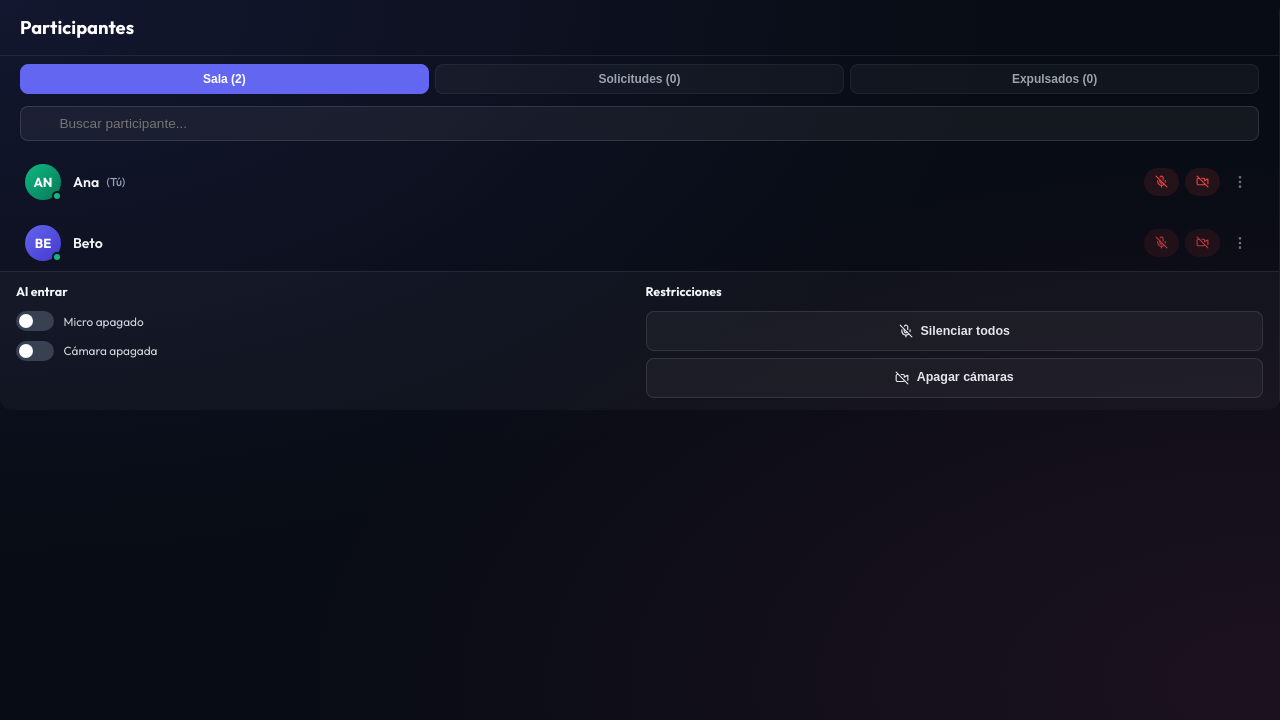
Test case: Participants (transfer-leader + roles solo-leader) › el coleader NO ve 'Pasar sala' ni botones de co-anfitrión pero conserva moderación (Expulsar)
The image size is (1280, 720).
Click the text "Beto" at (88, 243), box [73, 234, 103, 252]
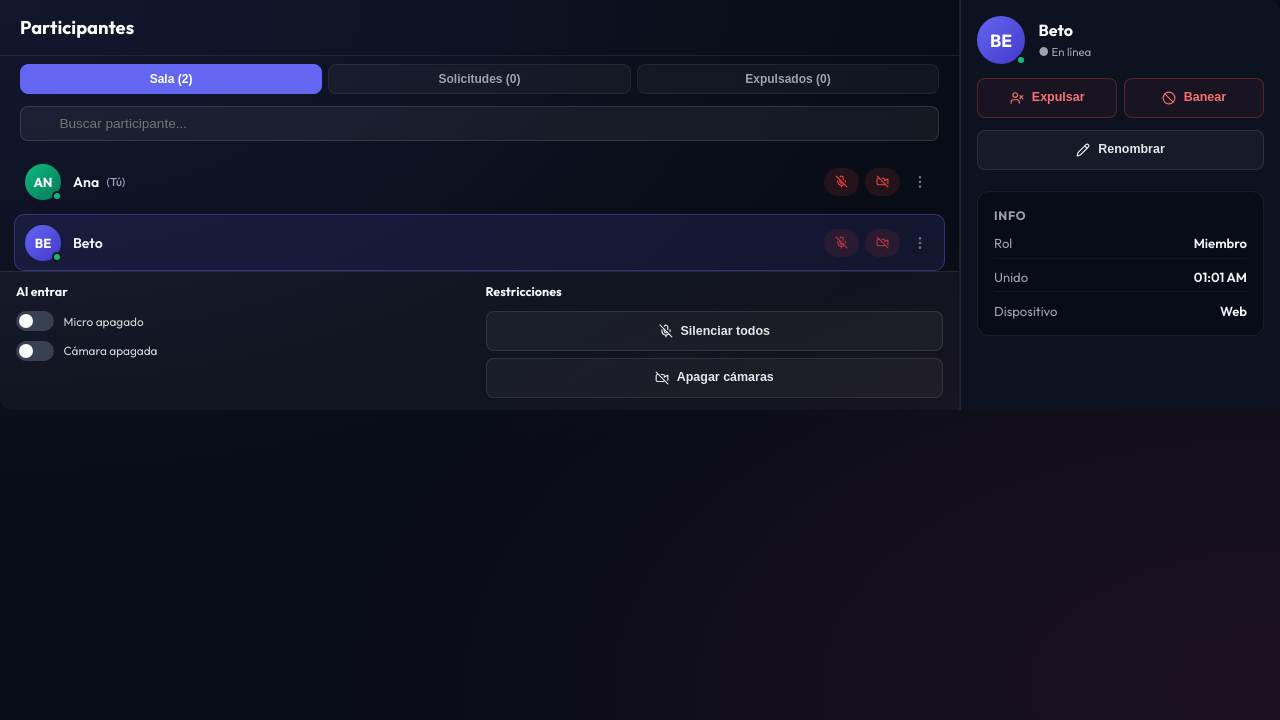
Check: the button "Expulsar" is shown, box [977, 78, 1117, 118]
